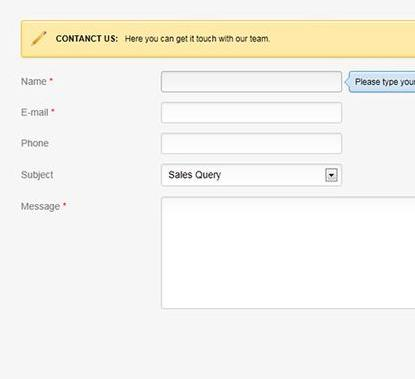field: (158, 161, 344, 187), (159, 101, 344, 125), (160, 69, 344, 93), (159, 132, 343, 155)
field_with_label: (20, 160, 346, 189), (20, 99, 346, 127), (22, 68, 347, 95), (21, 131, 345, 157)
